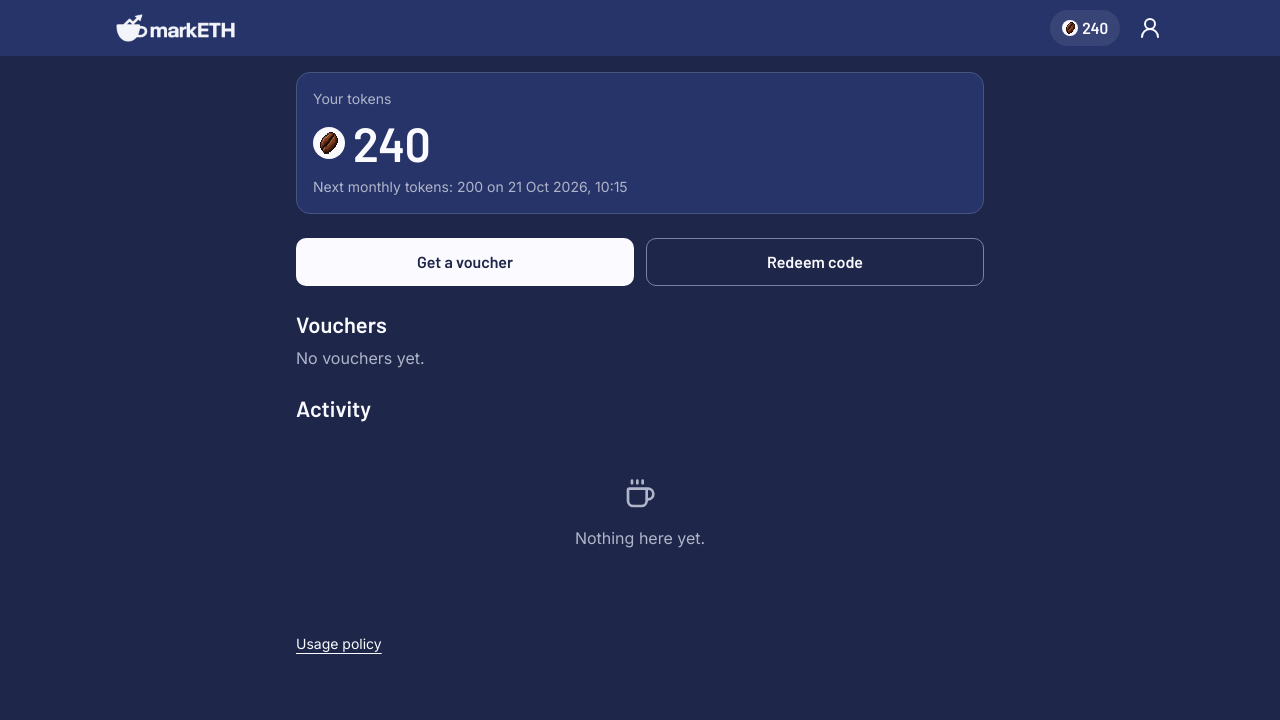
Test case: the second step › says what happens in the API's figures and the days of /config, and sends nothing yet
Click the button "Get a voucher".
click(465, 262)  # box [296,238,634,286]
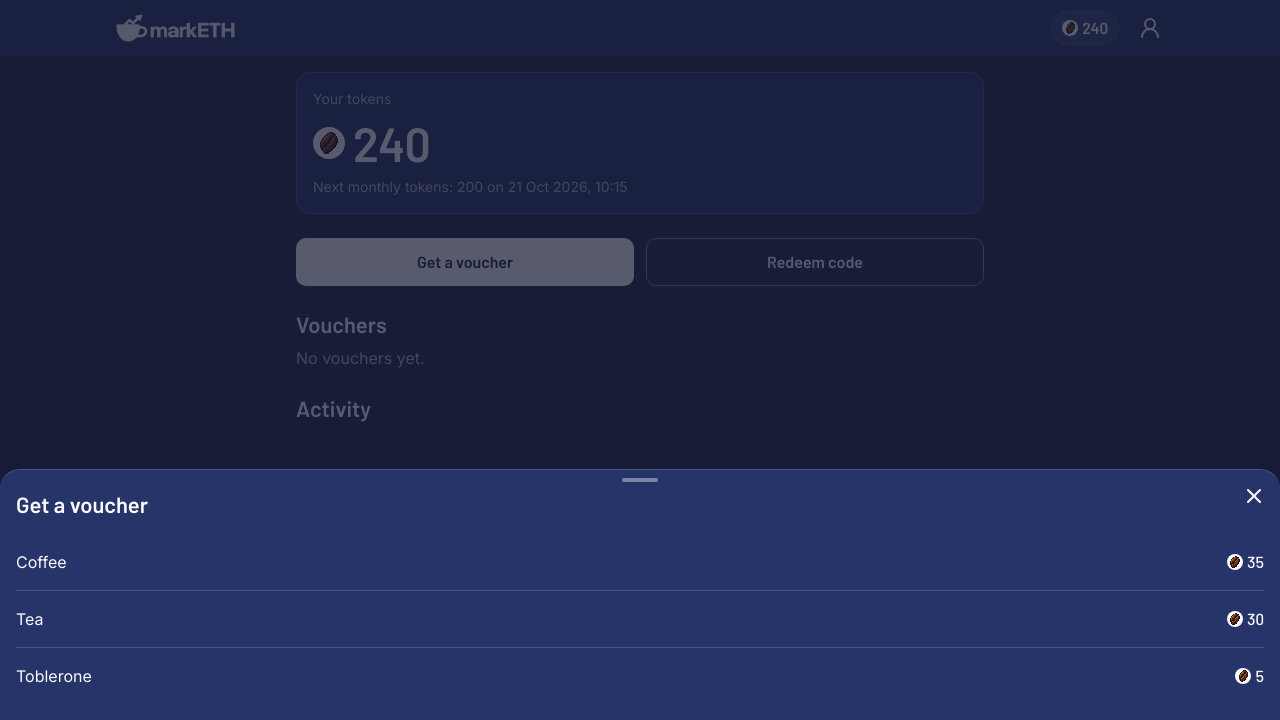
Click the button "Coffee 35".
click(41, 562)  # box [16,534,1264,590]
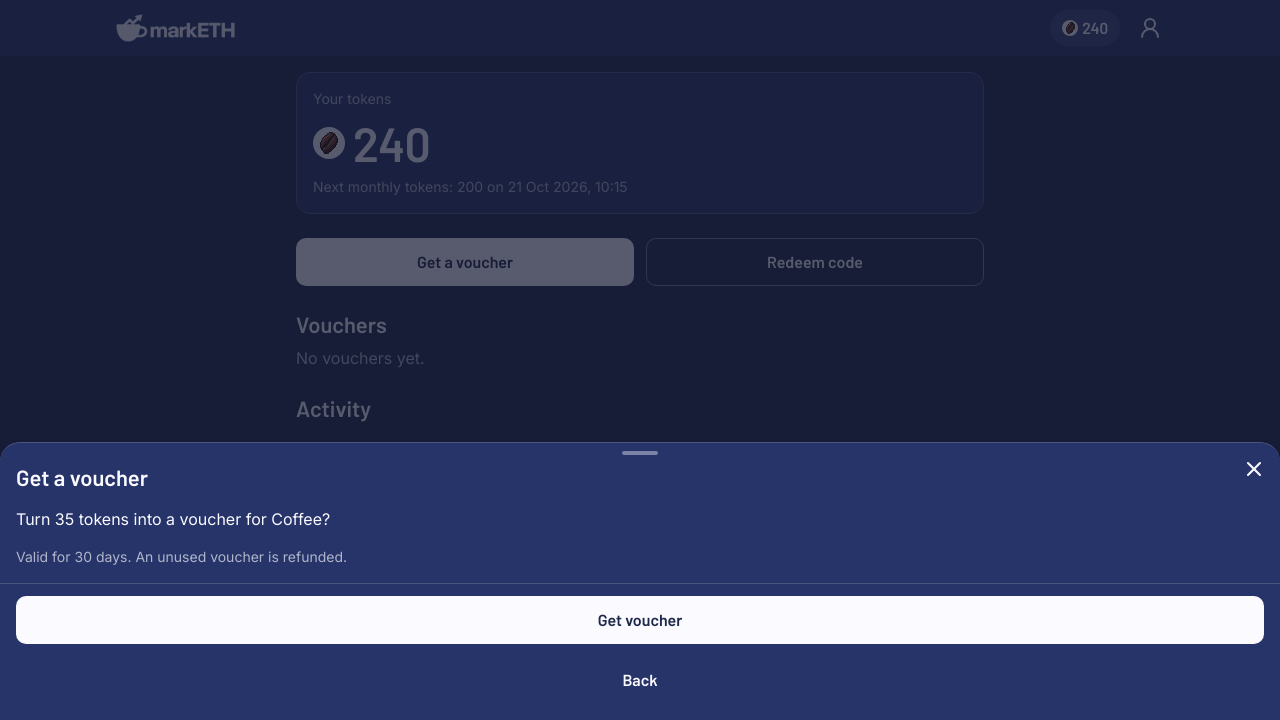
Expected: the text "Turn 35 tokens into a voucher for Coffee?" is shown, [16,509,330,529]
Expected: the text "Valid for 30 days. An unused voucher is refunded." is shown, [16,548,347,565]
